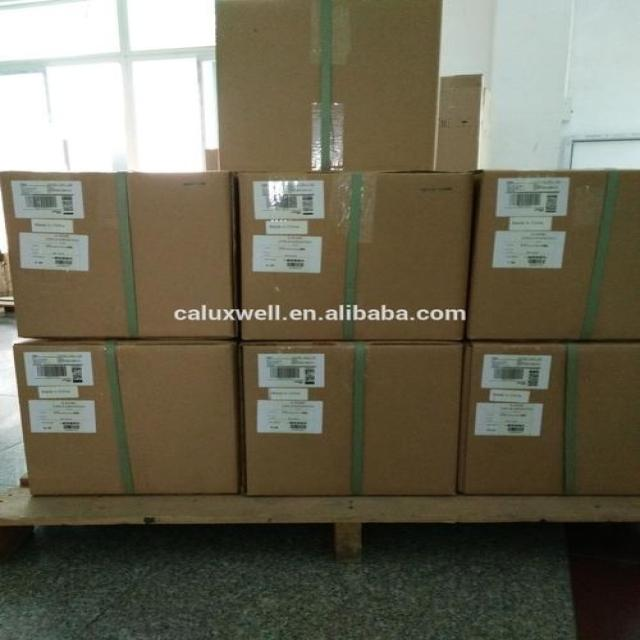box: (235, 171, 478, 340), (216, 3, 446, 174), (4, 172, 238, 338), (9, 338, 245, 494), (239, 339, 465, 493), (467, 173, 639, 342), (463, 336, 639, 493), (432, 73, 490, 171), (202, 146, 218, 170)
